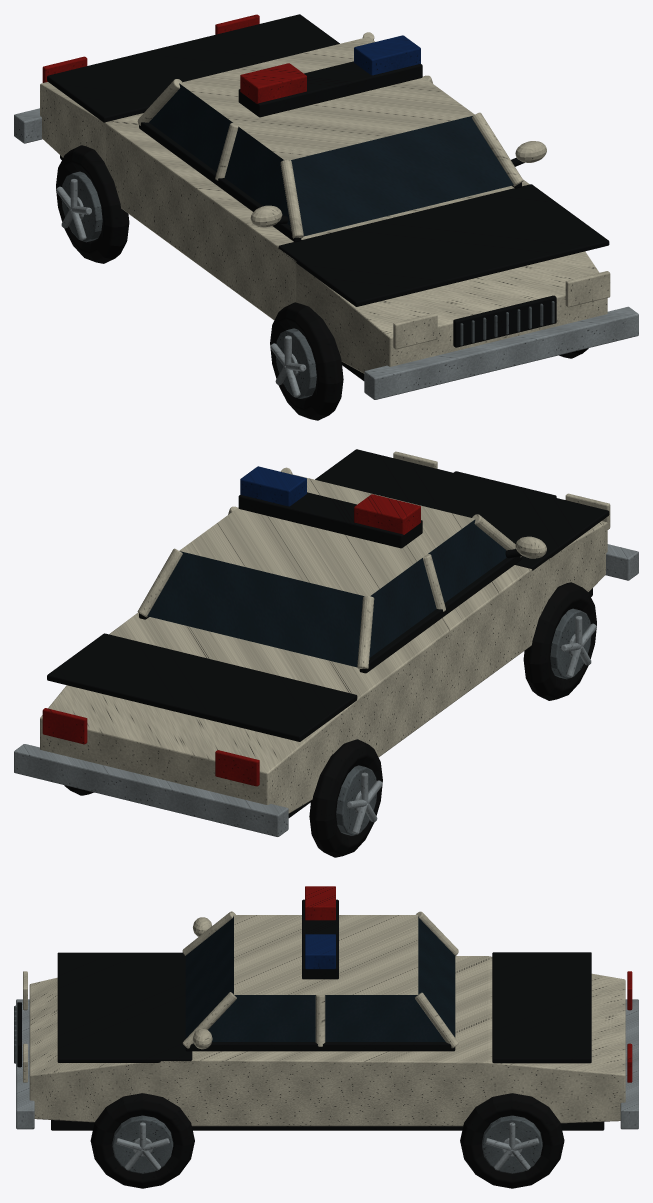
Rendered from PROP-2E5F09116ABF_lod0.glb.
The picture shows the model from 3 angles, top to bottom: view 1: azimuth 30°, elevation 25°; view 2: azimuth 150°, elevation 25°; view 3: azimuth 270°, elevation 25°; orthographic projection. The views are drawn at different scales.
Parts seen in each view (by area): view 1: shaped_body_panels.003, sloped_cabin_glazing.001, black_hood.001, roof_panel.001, black_trunk.001, bumper.003, tire.003, lightbar.001, window_pillars.001, rim.003, radiator_grille.003, lamp_lenses.006 (+7 smaller); view 2: shaped_body_panels.003, sloped_cabin_glazing.001, black_trunk.001, roof_panel.001, black_hood.001, bumper.003, tire.003, lightbar.001, rim.003, window_pillars.001, lamp_lenses.007, window_belt.001 (+4 smaller); view 3: shaped_body_panels.003, sloped_cabin_glazing.001, black_hood.001, roof_panel.001, black_trunk.001, tire.003, rim.003, bumper.003, window_pillars.001, window_belt.001, chassis.003, rim_spokes.003 (+5 smaller).
Boxes of the visible parts, box(x1,y1,x2,y2) form: shaped_body_panels.003: box(40, 82, 607, 373); sloped_cabin_glazing.001: box(149, 83, 513, 236); black_hood.001: box(278, 184, 609, 306); roof_panel.001: box(179, 37, 474, 160); black_trunk.001: box(47, 14, 339, 122); bumper.003: box(14, 108, 638, 399); tire.003: box(56, 145, 588, 420); lightbar.001: box(238, 61, 422, 117); window_pillars.001: box(137, 32, 523, 238); rim.003: box(61, 171, 316, 398); radiator_grille.003: box(453, 295, 556, 347); lamp_lenses.006: box(393, 271, 610, 349); shaped_body_panels.003: box(40, 521, 607, 813); sloped_cabin_glazing.001: box(147, 519, 506, 667); black_trunk.001: box(47, 633, 357, 741); roof_panel.001: box(179, 472, 474, 596); black_hood.001: box(315, 449, 609, 570); bumper.003: box(14, 544, 638, 836); tire.003: box(64, 582, 596, 857); lightbar.001: box(238, 492, 422, 548); rim.003: box(336, 608, 591, 835); window_pillars.001: box(137, 467, 521, 669); lamp_lenses.007: box(42, 708, 259, 786); window_belt.001: box(139, 556, 521, 673); shaped_body_panels.003: box(29, 956, 625, 1126); sloped_cabin_glazing.001: box(185, 916, 455, 1041); black_hood.001: box(57, 952, 192, 1062); roof_panel.001: box(234, 915, 418, 994); black_trunk.001: box(492, 952, 591, 1063); tire.003: box(90, 1093, 564, 1188); rim.003: box(112, 1115, 542, 1173); bumper.003: box(16, 999, 638, 1129); window_pillars.001: box(182, 911, 458, 1048); window_belt.001: box(185, 1042, 455, 1051); chassis.003: box(51, 1120, 604, 1130); rim_spokes.003: box(115, 1122, 539, 1170).
Bounding box in the file's own units: 2.09 × 1.67 × 4.41.
8 materials, 8 textured.
